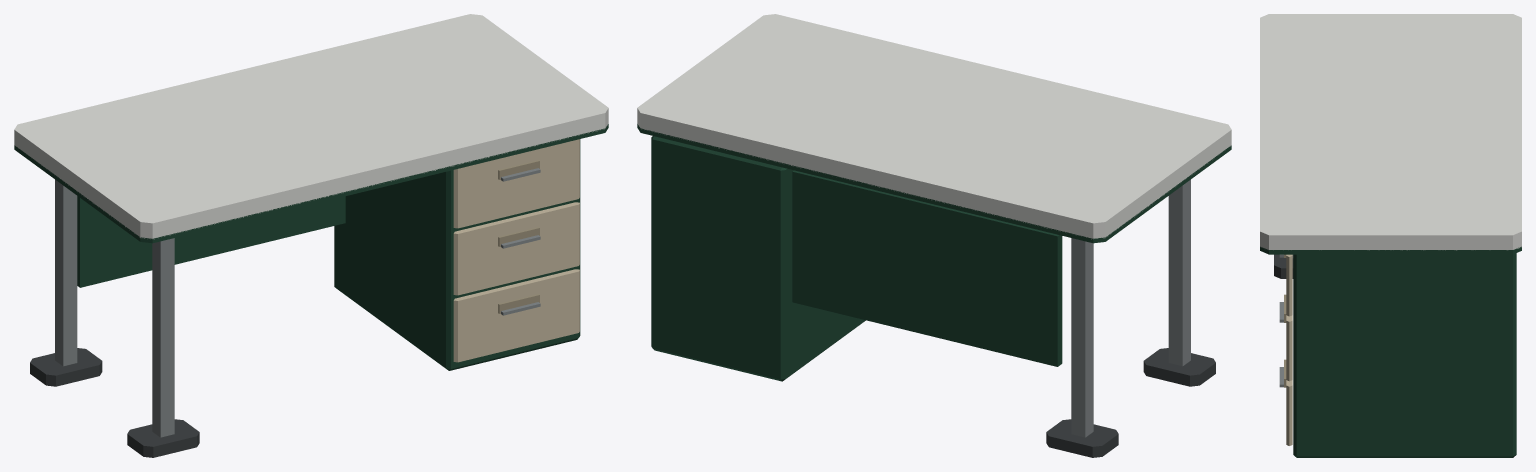
The model's file is desk_office.glb.
The picture shows the model from 3 angles, left to right: view 1: azimuth 30°, elevation 25°; view 2: azimuth 150°, elevation 25°; view 3: azimuth 270°, elevation 25°; orthographic projection. The views are drawn at different scales.
Visible parts, largest first — view 1: Tablero, Pedestal, Faldón, Cajón.001, Cajón, Cajón.002, Pata, Pata.001, Canto, Pie, Pie.001; view 2: Tablero, Faldón, Pedestal, Pata.001, Pata, Canto, Pie.001, Pie; view 3: Tablero, Pedestal, Canto, Cajón.001, Cajón, Cajón.002, Pie.
Boxes of the visible parts, bbox=[...] form: Tablero: bbox=[14, 14, 608, 239]; Pedestal: bbox=[334, 139, 580, 370]; Faldón: bbox=[77, 196, 345, 287]; Cajón.001: bbox=[453, 202, 579, 295]; Cajón: bbox=[453, 269, 579, 362]; Cajón.002: bbox=[453, 139, 579, 228]; Pata: bbox=[152, 238, 174, 437]; Pata.001: bbox=[55, 179, 77, 366]; Canto: bbox=[14, 124, 608, 243]; Pie: bbox=[127, 419, 199, 457]; Pie.001: bbox=[30, 348, 102, 386]; Tablero: bbox=[637, 14, 1231, 239]; Faldón: bbox=[792, 170, 1062, 366]; Pedestal: bbox=[651, 136, 865, 381]; Pata.001: bbox=[1071, 238, 1093, 437]; Pata: bbox=[1168, 179, 1190, 366]; Canto: bbox=[637, 124, 1231, 243]; Pie.001: bbox=[1046, 419, 1118, 457]; Pie: bbox=[1143, 348, 1215, 386]; Tablero: bbox=[1260, 14, 1521, 250]; Pedestal: bbox=[1293, 253, 1516, 457]; Canto: bbox=[1260, 246, 1521, 254]; Cajón.001: bbox=[1286, 315, 1292, 381]; Cajón: bbox=[1286, 380, 1292, 445]; Cajón.002: bbox=[1286, 254, 1292, 316]; Pie: bbox=[1274, 254, 1293, 278].
Size of the model in its own units: 1.5 by 0.74 by 0.75.
